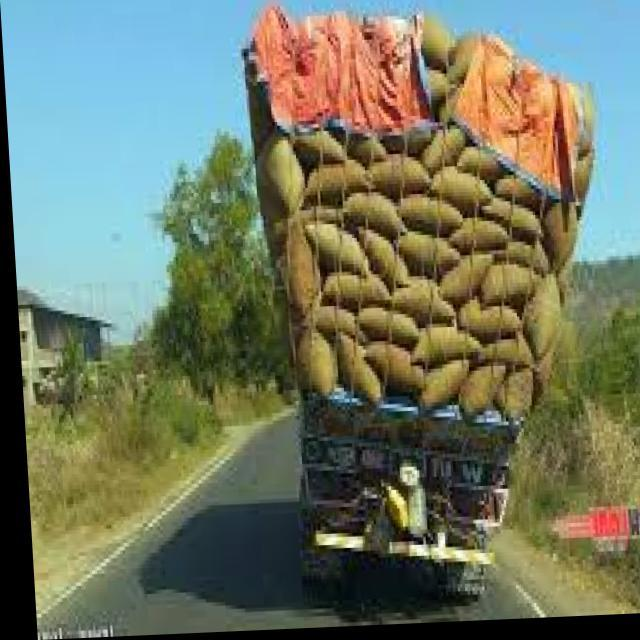uncovered: (235, 11, 616, 609)
